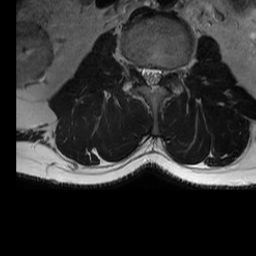CCS_normal: (148, 59, 155, 95)
LFS_stenosis: (162, 59, 170, 84)
LLS_normal: (155, 59, 162, 93)
RFS_stenosis: (131, 55, 140, 79)
RLS_normal: (140, 59, 148, 90)
